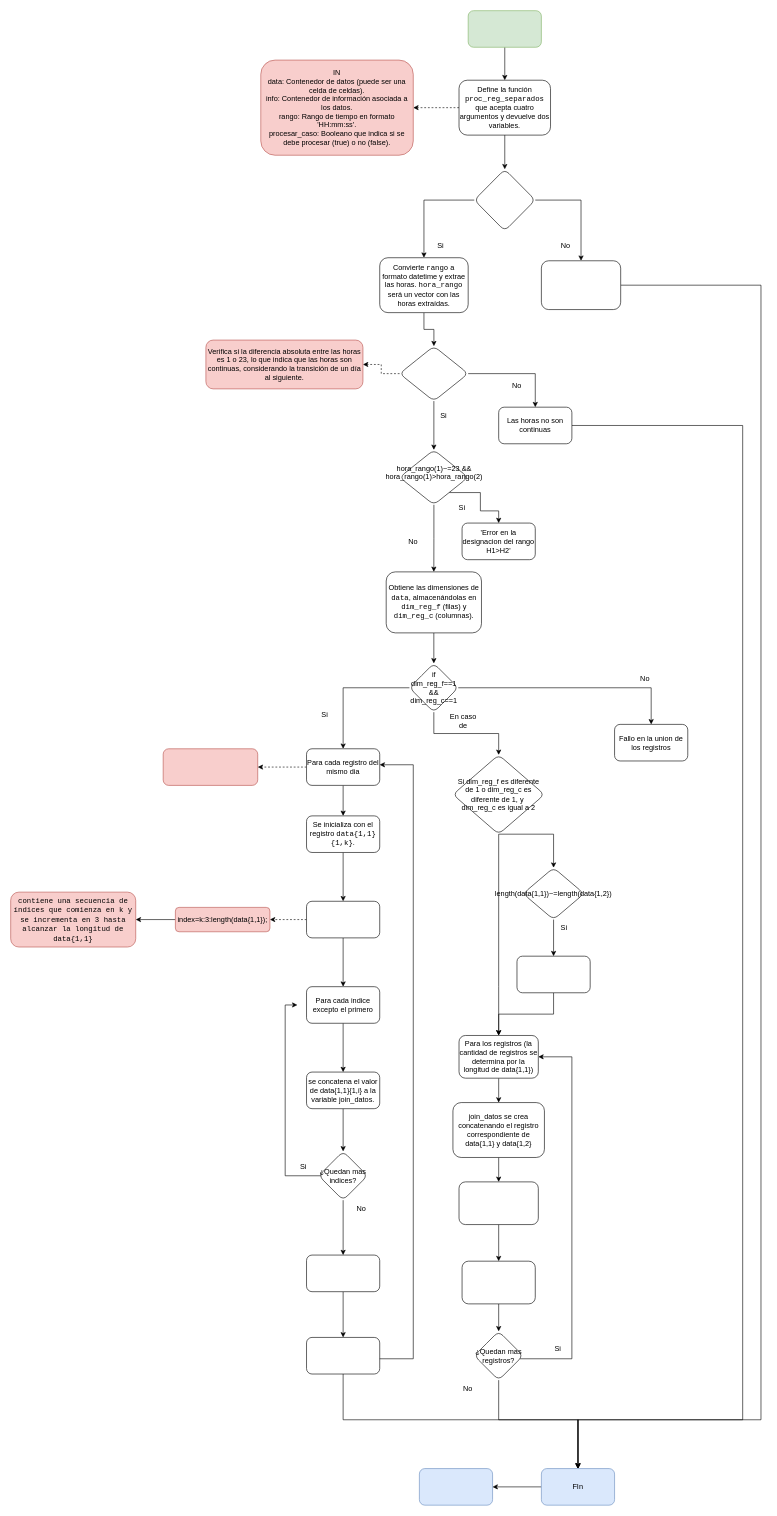
This 777x1516 diagram has some shape labels left out. Here are the shapes that lost their labels. From the top down, the centre of each, then its label:
[504,28]: Inicio
[504,200]: ¿Procesar caso es verdadero?
[581,285]: datos_mod asume el valor de data info_mod asume el valor de info
[433,373]: abs(hora_rango(1)-hora_rango(2))==1 || abs(hora_rango(1)-hora_rango(2))==23
[210,766]: k=1:3 : Itera tres veces (presumiblemente para tres registros del mismo día).
[343,919]: Se establece el valor para el index
[553,974]: El numero de registros no es igual
[498,1203]: El valor de join_datos se asigna a datos_mod{1,1}{1,index}
[343,1273]: Se asigna el valor de join_datos a la celda datos_mod{1,1}{1,k}
[498,1282]: El valor de info{1,1}{1,index} se copia a info_mod{1,1}{1,index}
[343,1355]: Se copia el valor de info{1,1}{1,k} a info_mod{1,1}{1,k}
[456,1486]: OUT: datos_mod, info_mod
